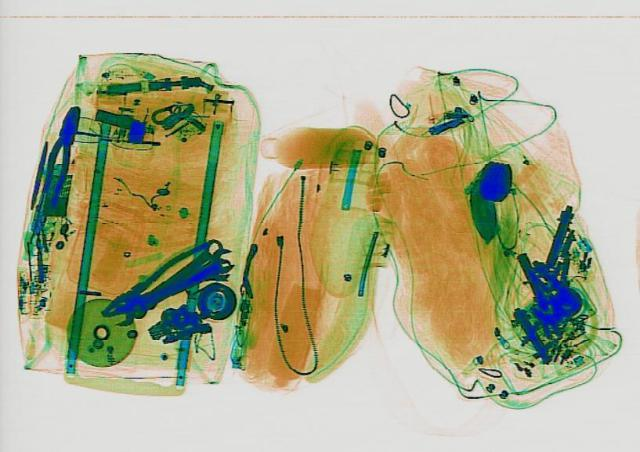Pliers: (86, 238, 230, 324), (30, 103, 86, 204)
Wrench: (99, 232, 225, 326)
